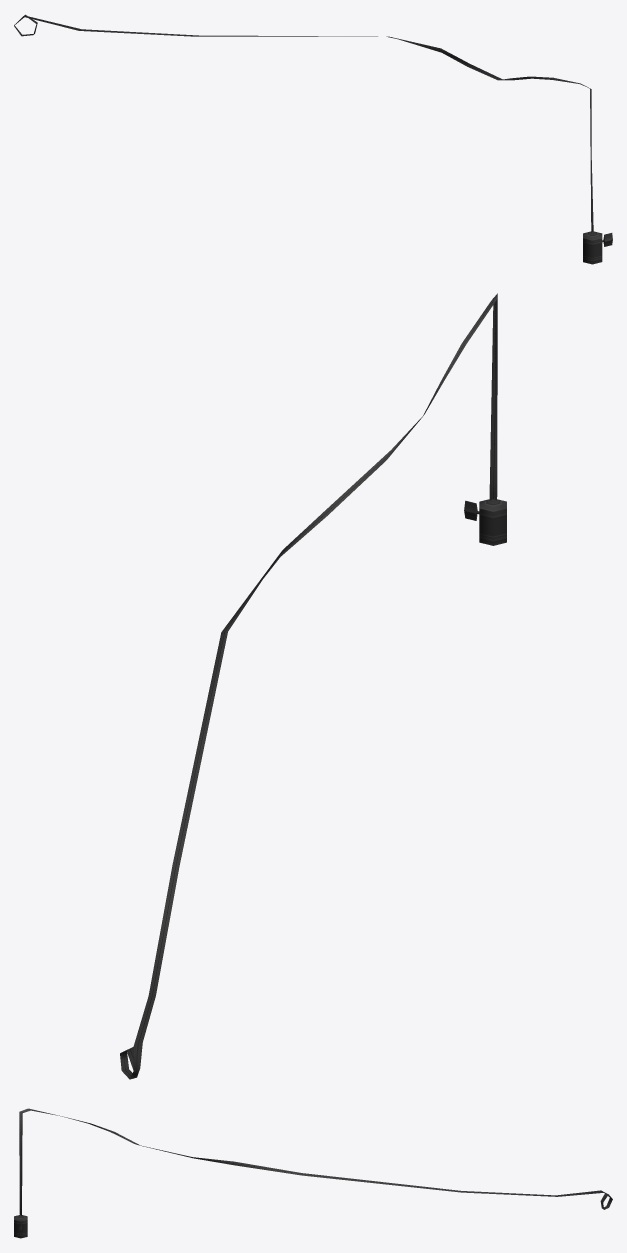
File: jsf_4P_Light_s04_c.fbx
3 renders of one model, top to bottom at view 1: azimuth 30°, elevation 25°; view 2: azimuth 150°, elevation 25°; view 3: azimuth 270°, elevation 25°, orthographic. The views are drawn at different scales.
Visible parts, largest first — view 1: jsf_4P_Light_s04_c; view 2: jsf_4P_Light_s04_c; view 3: jsf_4P_Light_s04_c.
Boxes of the visible parts, bbox=[...] form: jsf_4P_Light_s04_c: bbox=[14, 14, 612, 264]; jsf_4P_Light_s04_c: bbox=[120, 293, 506, 1079]; jsf_4P_Light_s04_c: bbox=[14, 1108, 612, 1238].
Size of the model in its own units: 31.56 by 34.58 by 124.
